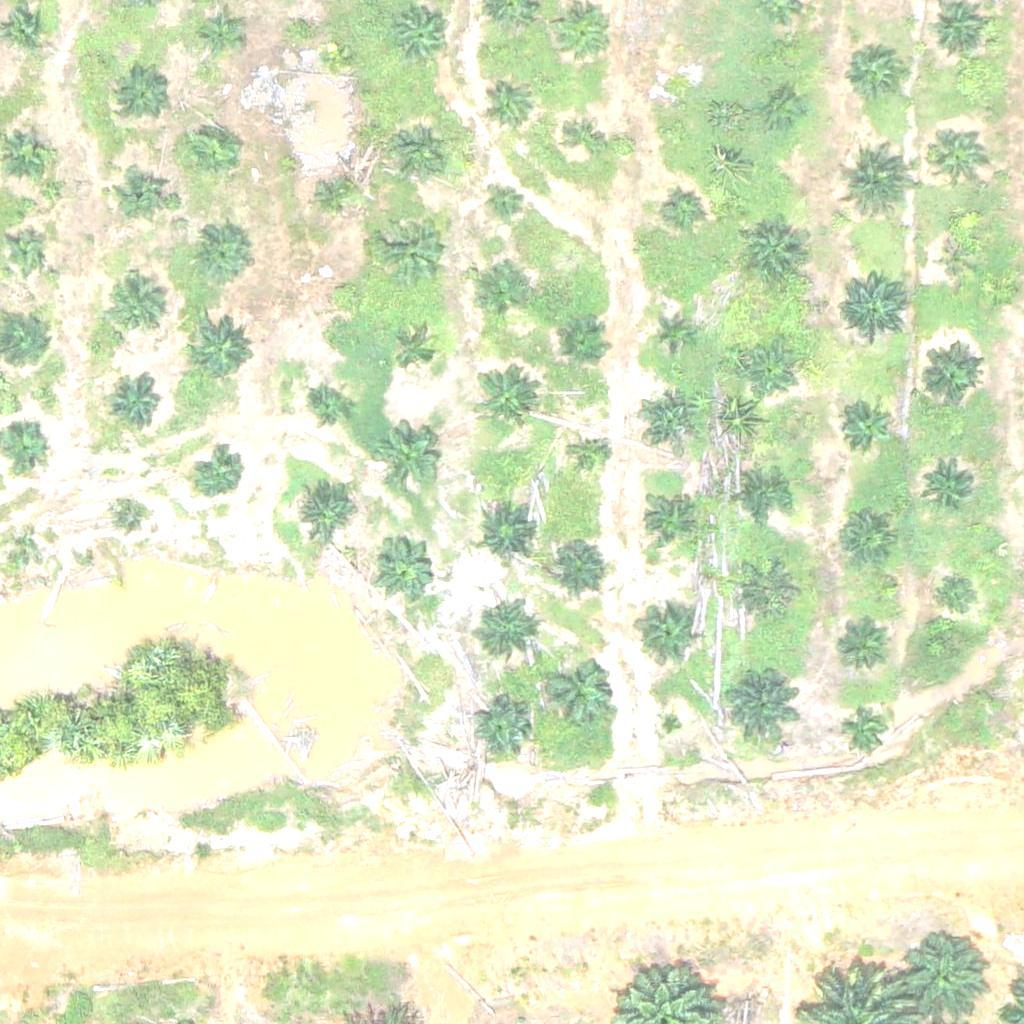Kelapa_Sawit: (376, 205, 451, 281), (723, 667, 798, 743), (537, 654, 612, 730), (835, 148, 910, 223), (837, 262, 912, 337), (636, 384, 699, 447), (373, 425, 436, 488), (917, 346, 980, 409), (922, 453, 985, 516), (470, 602, 533, 665), (369, 534, 432, 597), (637, 603, 700, 666), (469, 699, 532, 762), (472, 366, 534, 429), (189, 314, 251, 377), (740, 222, 802, 285), (842, 39, 904, 102), (107, 277, 169, 340), (387, 122, 449, 185), (186, 224, 248, 287), (927, 125, 989, 188), (736, 562, 798, 625), (292, 479, 354, 542), (392, 9, 454, 71), (477, 504, 539, 566), (544, 532, 606, 594), (742, 349, 792, 400), (837, 400, 887, 451), (841, 513, 891, 564), (934, 571, 984, 622), (737, 471, 787, 521), (111, 381, 161, 431), (192, 448, 242, 498), (118, 165, 168, 215), (117, 69, 167, 119), (558, 9, 608, 59), (471, 272, 521, 322), (184, 125, 234, 175), (836, 624, 886, 674), (641, 494, 691, 544), (842, 705, 892, 755), (557, 319, 607, 369), (388, 328, 438, 378), (303, 385, 353, 435), (311, 168, 361, 218), (483, 81, 533, 131), (199, 15, 237, 53), (573, 440, 611, 478), (486, 183, 524, 221), (661, 77, 699, 115), (567, 119, 605, 157), (766, 93, 803, 131), (941, 242, 978, 280), (652, 315, 689, 353), (666, 191, 704, 228), (6, 232, 43, 270), (117, 501, 142, 526), (320, 43, 345, 68), (327, 278, 352, 303), (22, 535, 47, 560)
